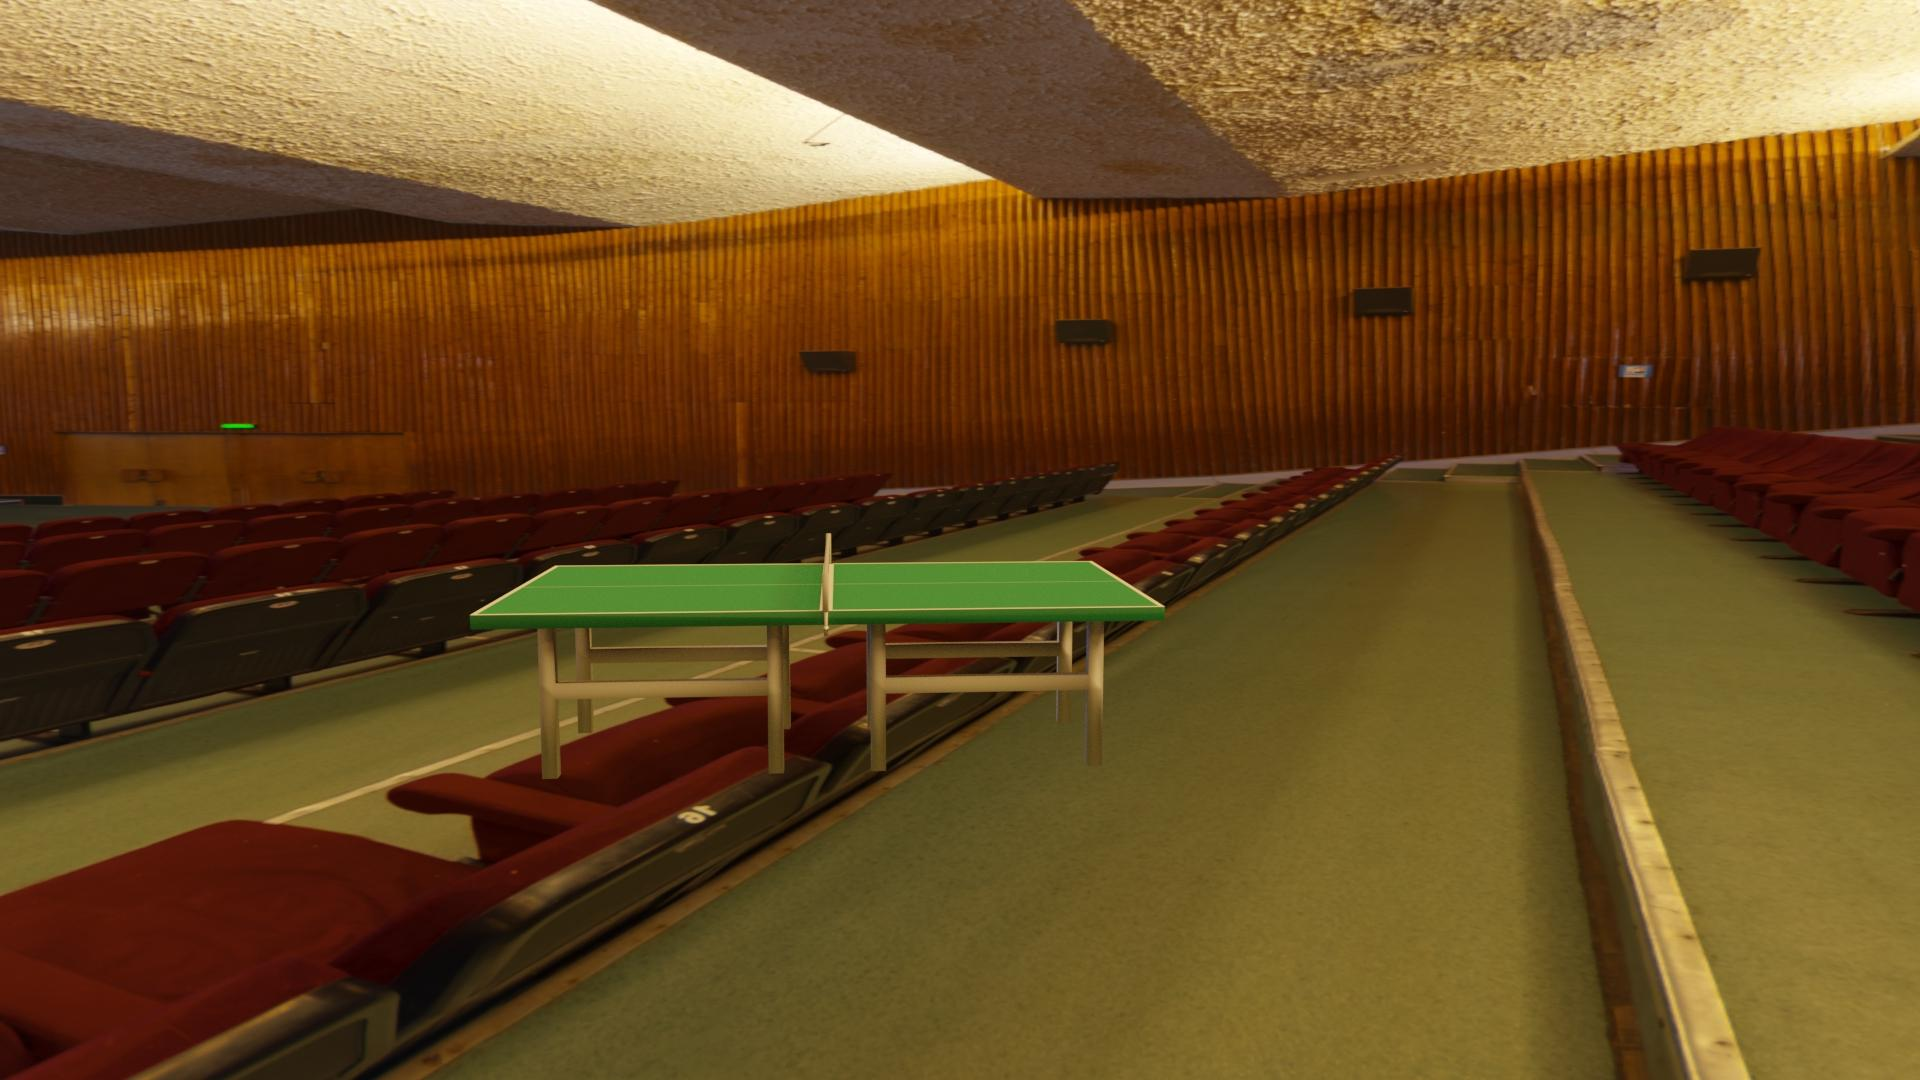table: (476, 562, 1159, 615)
